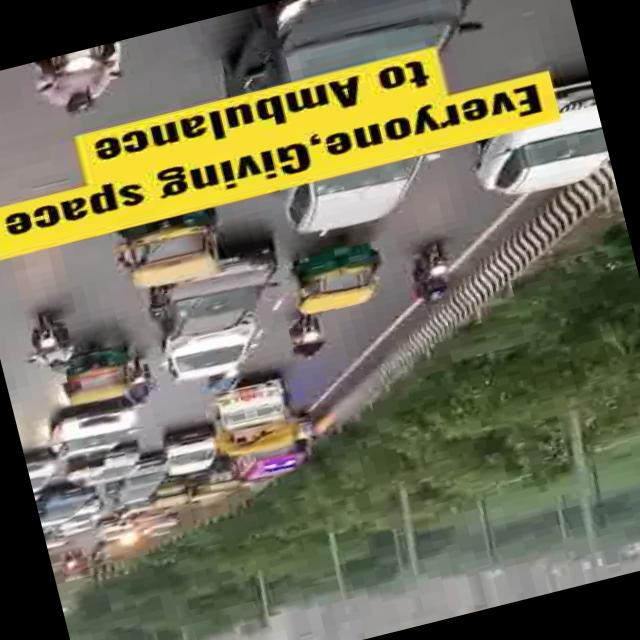ambulance: (234, 438, 318, 485)
